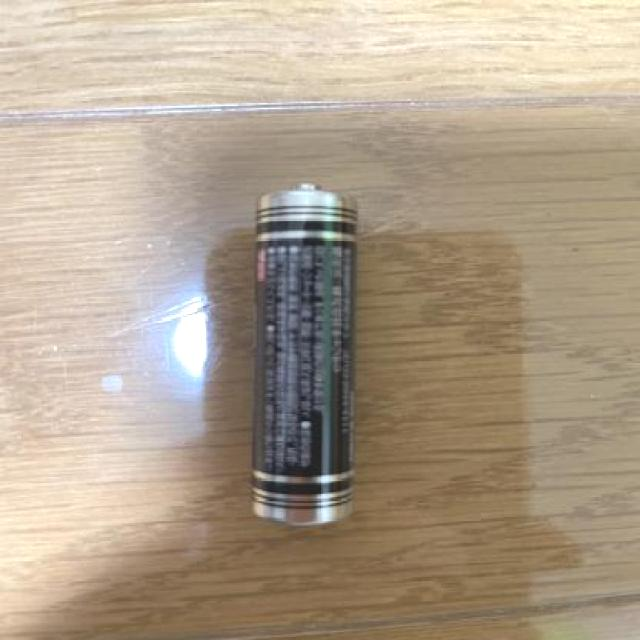AA: (237, 173, 368, 532)
